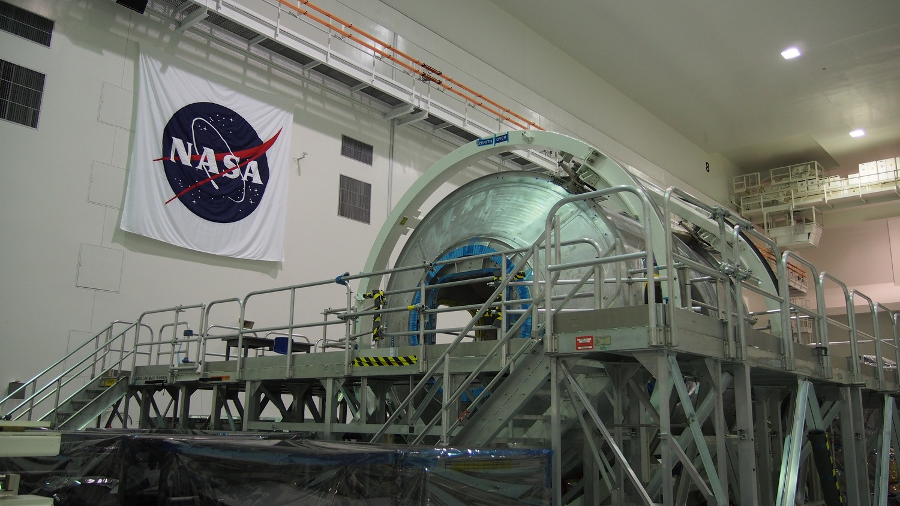NASA: (153, 98, 286, 227)
